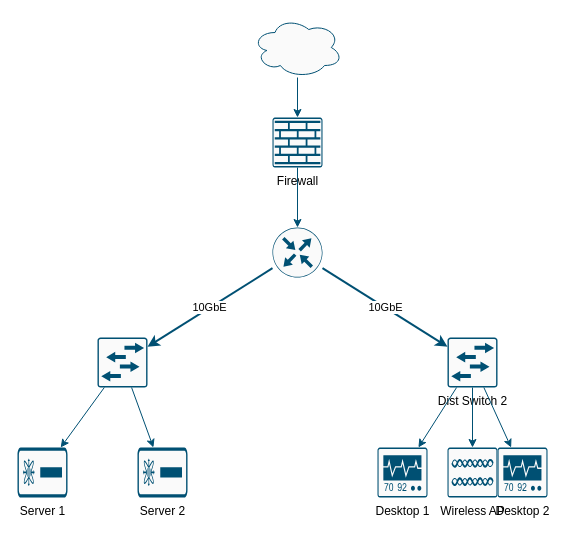
This 567x536 diagram has some shape labels left out. Each missing label, with the centre of its shape:
Core Router: point 297,252
Dist Switch 1: point 122,362
Internet: point 297,47
